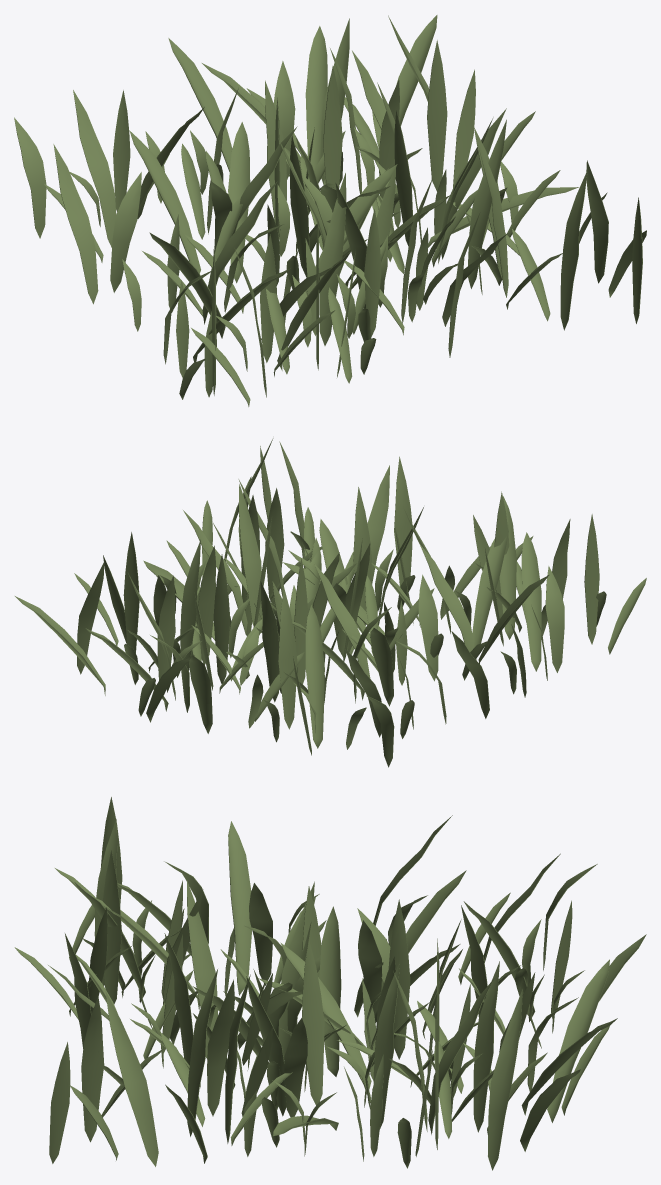
The model's file is GrassH.fbx.
The picture shows the model from 3 angles, top to bottom: view 1: azimuth 30°, elevation 25°; view 2: azimuth 150°, elevation 25°; view 3: azimuth 270°, elevation 25°; orthographic projection. The views are drawn at different scales.
Parts seen in each view (by area): view 1: GrassE1; view 2: GrassE1; view 3: GrassE1.
Boxes of the visible parts, x1,y1,x2,y2 form: GrassE1: (14, 15, 646, 406); GrassE1: (15, 438, 646, 767); GrassE1: (14, 797, 646, 1170).
Size of the model in its own units: 3.08 by 1.06 by 3.2.
